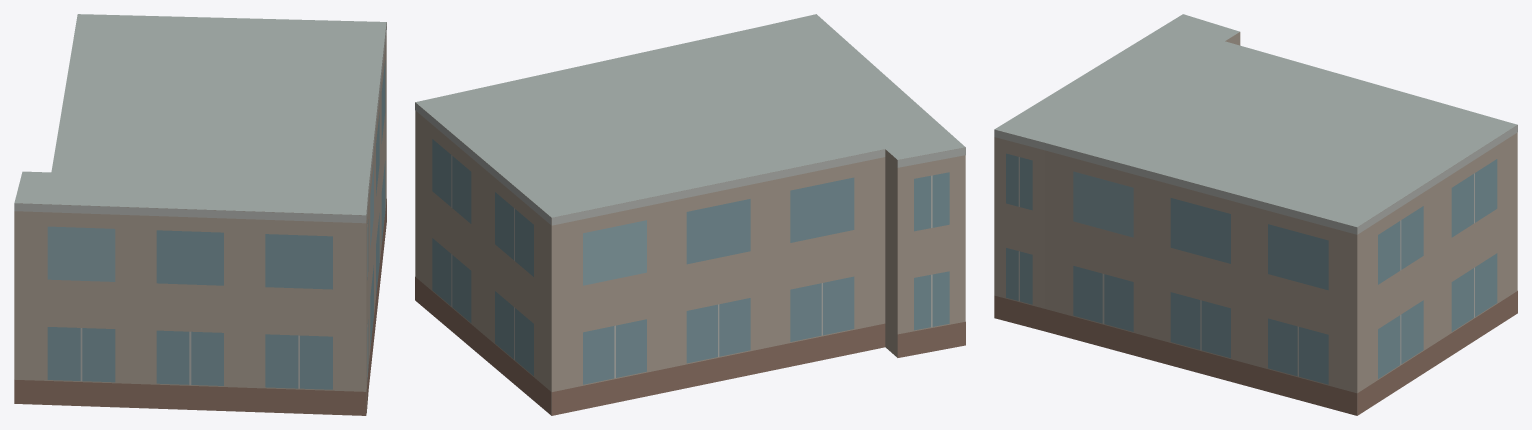
File: survey-upis-32723891.glb
3 views of the same model, side by side, from view 1: azimuth 30°, elevation 25°; view 2: azimuth 150°, elevation 25°; view 3: azimuth 270°, elevation 25° (orthographic). The views are drawn at different scales.
Visible parts, largest first — view 1: survey-upis-32723891.tmp; view 2: survey-upis-32723891.tmp; view 3: survey-upis-32723891.tmp.
Boxes of the visible parts, x1=… form: survey-upis-32723891.tmp: x1=14, y1=14, x2=386, y2=415; survey-upis-32723891.tmp: x1=415, y1=14, x2=965, y2=415; survey-upis-32723891.tmp: x1=994, y1=14, x2=1517, y2=415.
Bounding box in the file's own units: 14.8 × 6.1 × 15.36.
